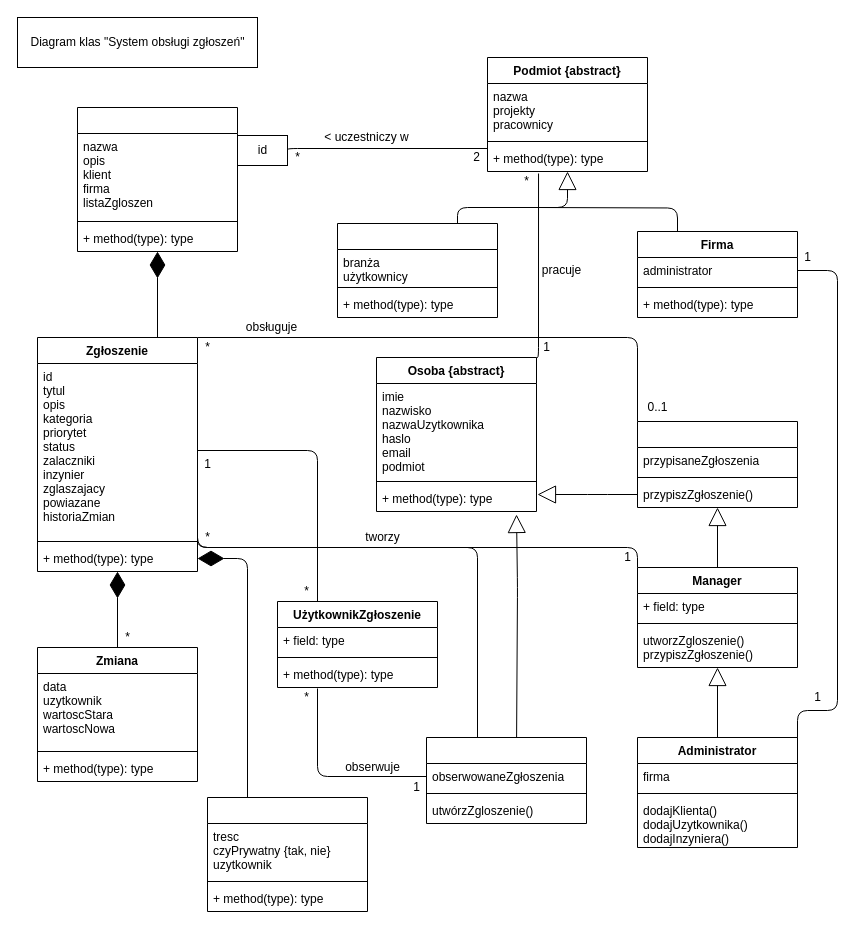
Image size: 856x932. Some labels were removed from this diagram. The shapes that lost their labels are listed below. From the top down, each one's box as (x1, y1, x2, y2) in pixels, then its label:
(76, 106, 238, 252): Projekt
(336, 222, 498, 318): Klient
(636, 420, 798, 508): Inżynier
(426, 736, 586, 824): Użytkownik
(206, 796, 368, 912): Komentarz
